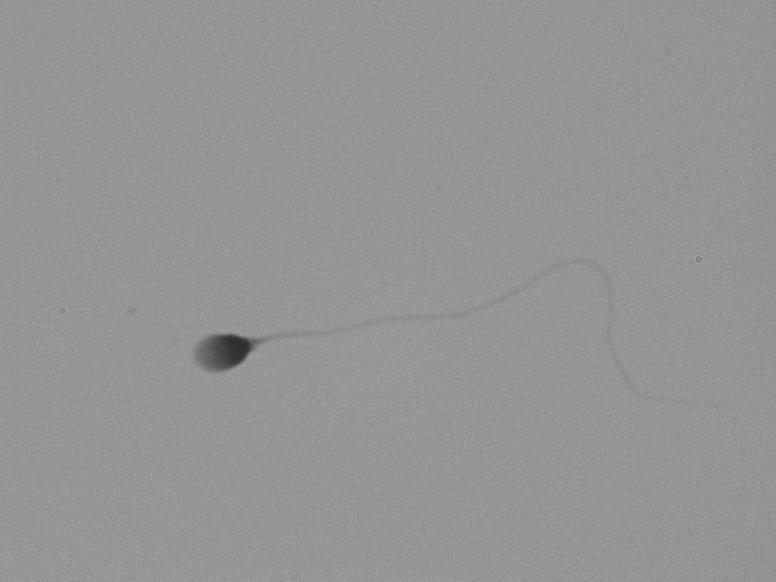Normal: (133, 202, 721, 460)
